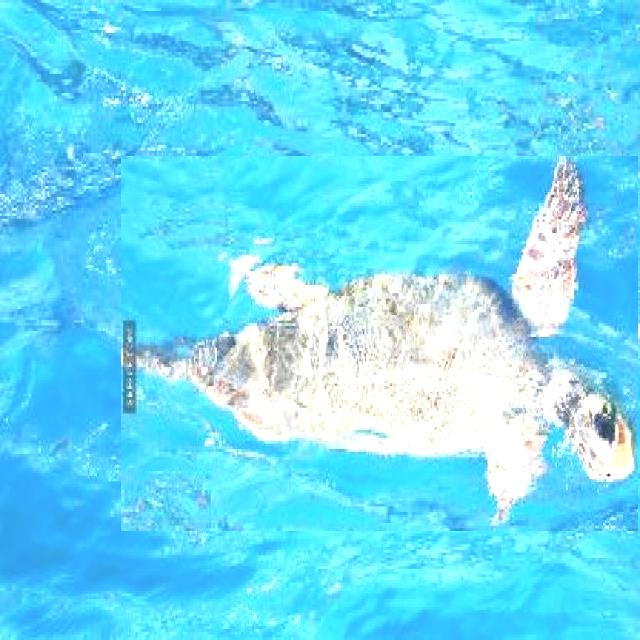Sea turtle: (121, 156, 640, 531)
